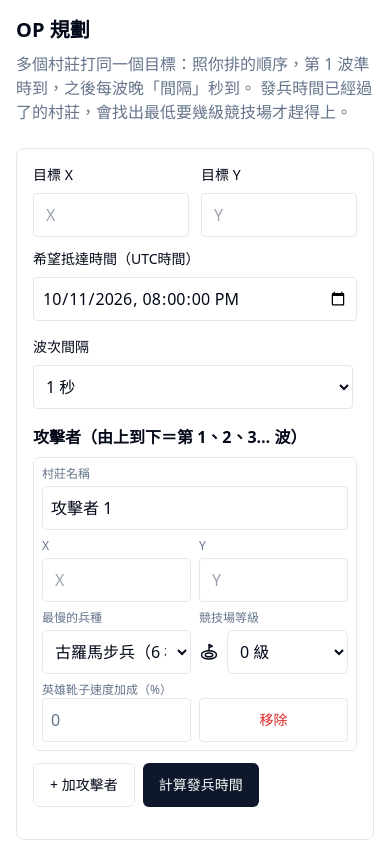
Scenario: 行軍速度灰標：攔截、OP 規劃、反推 TS、躲兵（P0-21） › TS optimizer: boots field per attacker; one chip per result card / row on its title (village), none on the travel row
Expected: the text "英雄靴子速度加成（%）" is shown, [42,682,191,698]
Replace the text in the number field with test id "attacker-boots" with "25" at (116, 720), box [42,698,191,742]
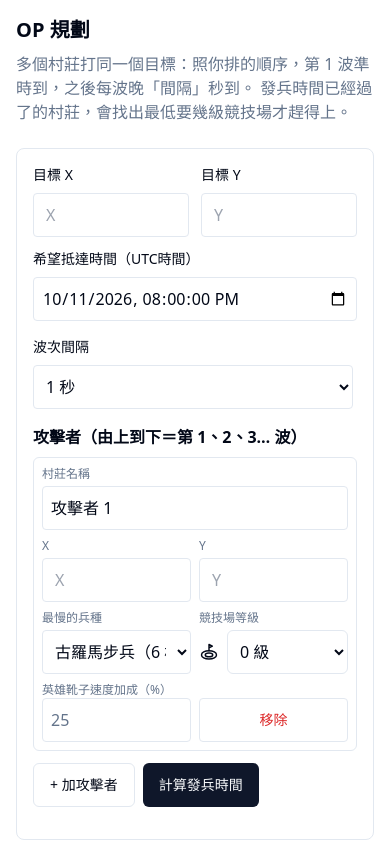
Type "0" into the field with test id "-y" at (111, 215), box [33,193,189,237]
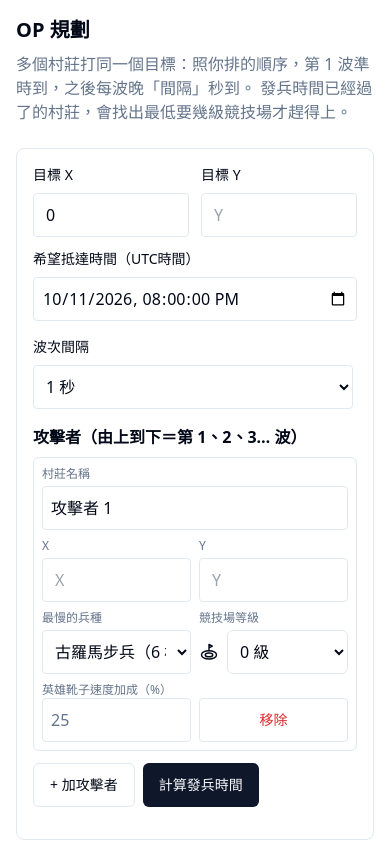
Type "0" into the field with test id "-y" at (279, 215), box [201,193,357,237]
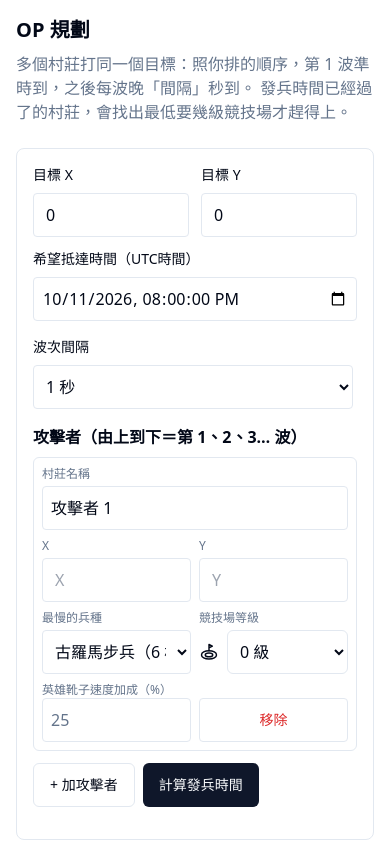
Type "0" into the field with test id "-y" at (116, 580), box [42,558,191,602]
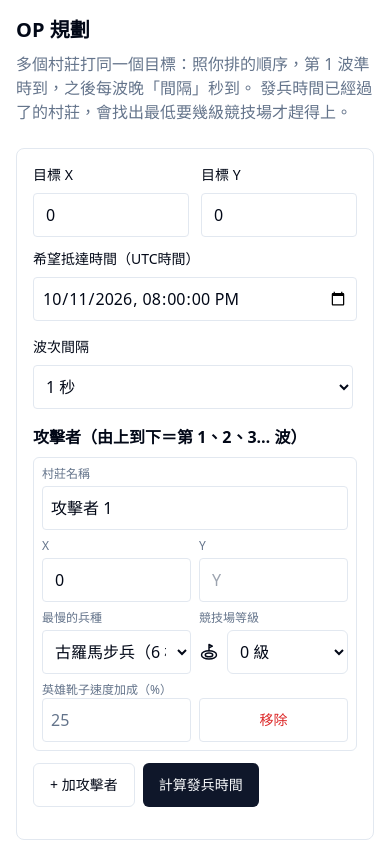
Type "0" into the field with test id "-y" at (274, 580), box [199,558,348,602]
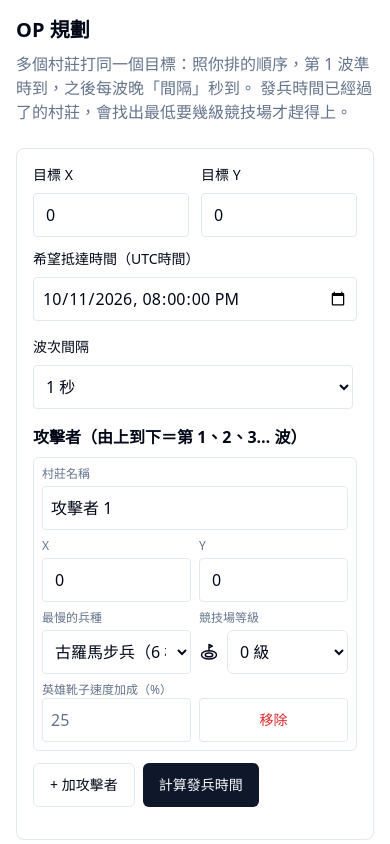
Click the button with test id "ts-submit" at (201, 785), box [143,763,259,807]
(page scrolled)
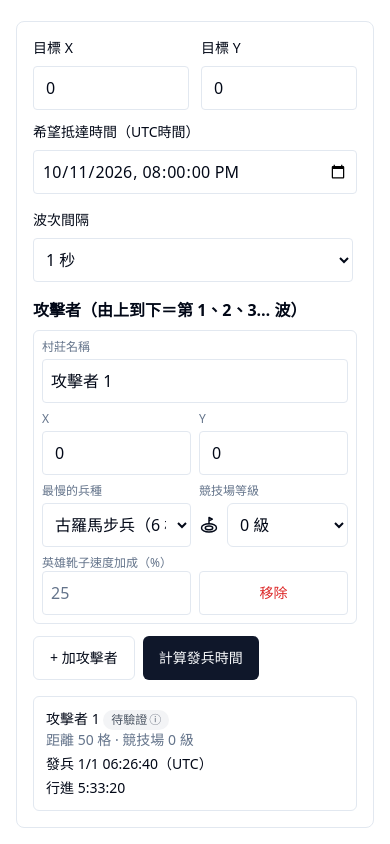
Result: the element with test id "ts-card-title" shows "攻擊者 1" at [46,709,100,728]
